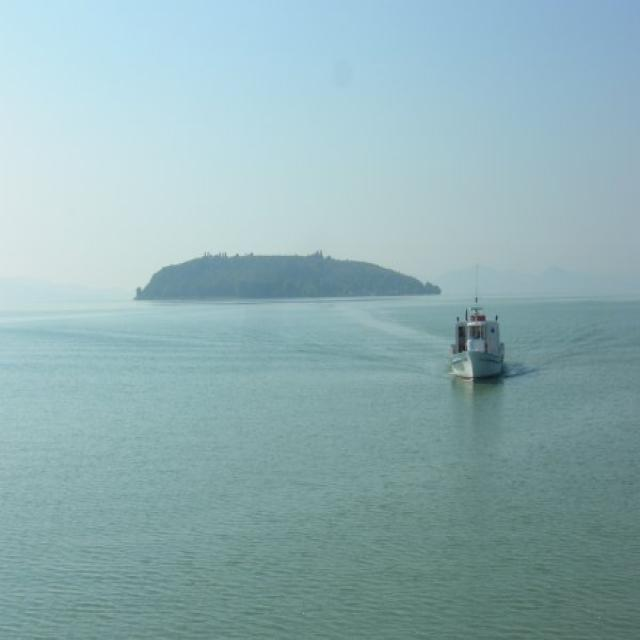houseboat: (444, 272, 511, 383)
island: (132, 242, 444, 304)
